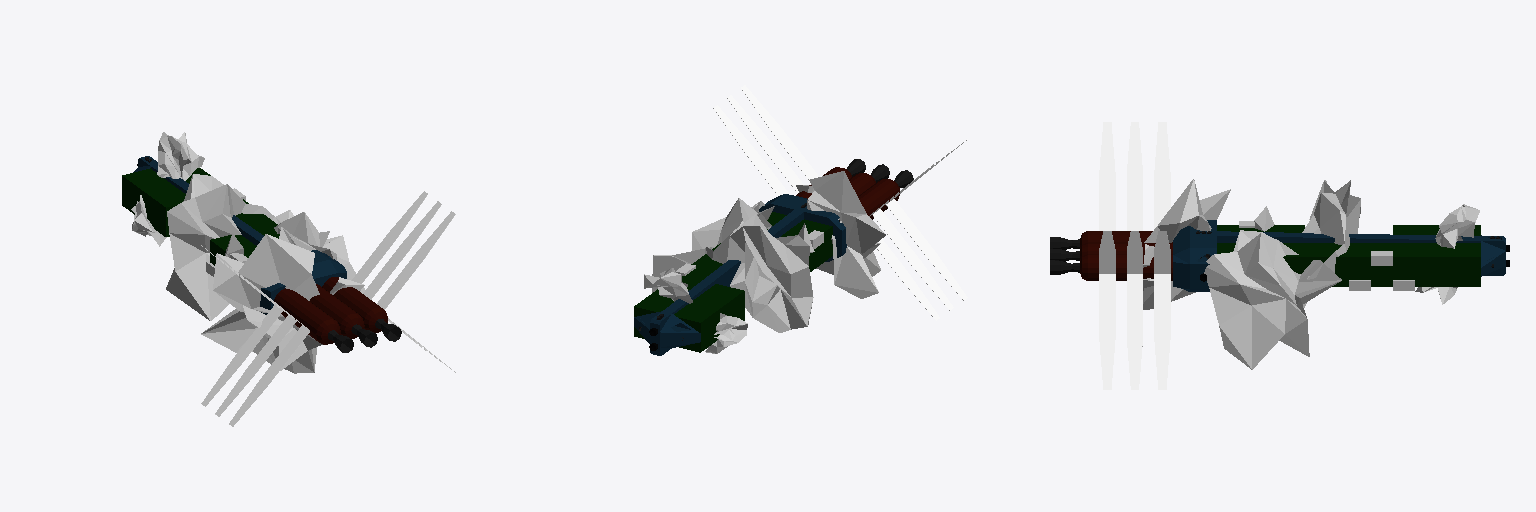
File: FreightorNewWreck2.obj
3 renders of one model, left to right at view 1: azimuth 30°, elevation 25°; view 2: azimuth 150°, elevation 25°; view 3: azimuth 270°, elevation 25°, orthographic.
Visible parts, largest first — view 1: Main_Hull, Cube.014, Cube.008, Cube.003, Cube.005, Cube.004; view 2: Main_Hull, Cube.008, Cube.014, Cube.003, Cube.005, Cube.004; view 3: Main_Hull, Cube.003, Cube.008, Cube.014, Cube.005.
Part boxes in pixels (left/top/right/bottom): Main_Hull: left=122, top=156, right=455, bottom=426; Cube.014: left=201, top=234, right=322, bottom=373; Cube.008: left=166, top=174, right=281, bottom=320; Cube.003: left=273, top=210, right=364, bottom=293; Cube.005: left=157, top=132, right=204, bottom=180; Cube.004: left=131, top=195, right=166, bottom=246; Main_Hull: left=634, top=85, right=967, bottom=355; Cube.008: left=705, top=214, right=813, bottom=332; Cube.014: left=807, top=171, right=885, bottom=298; Cube.003: left=652, top=198, right=774, bottom=292; Cube.005: left=644, top=268, right=692, bottom=303; Cube.004: left=705, top=313, right=747, bottom=353; Main_Hull: left=1050, top=122, right=1509, bottom=389; Cube.003: left=1204, top=230, right=1341, bottom=369; Cube.008: left=1302, top=180, right=1360, bottom=279; Cube.014: left=1143, top=179, right=1230, bottom=309; Cube.005: left=1435, top=204, right=1479, bottom=248.
Size of the model in its own units: 93.71 by 63.71 by 168.